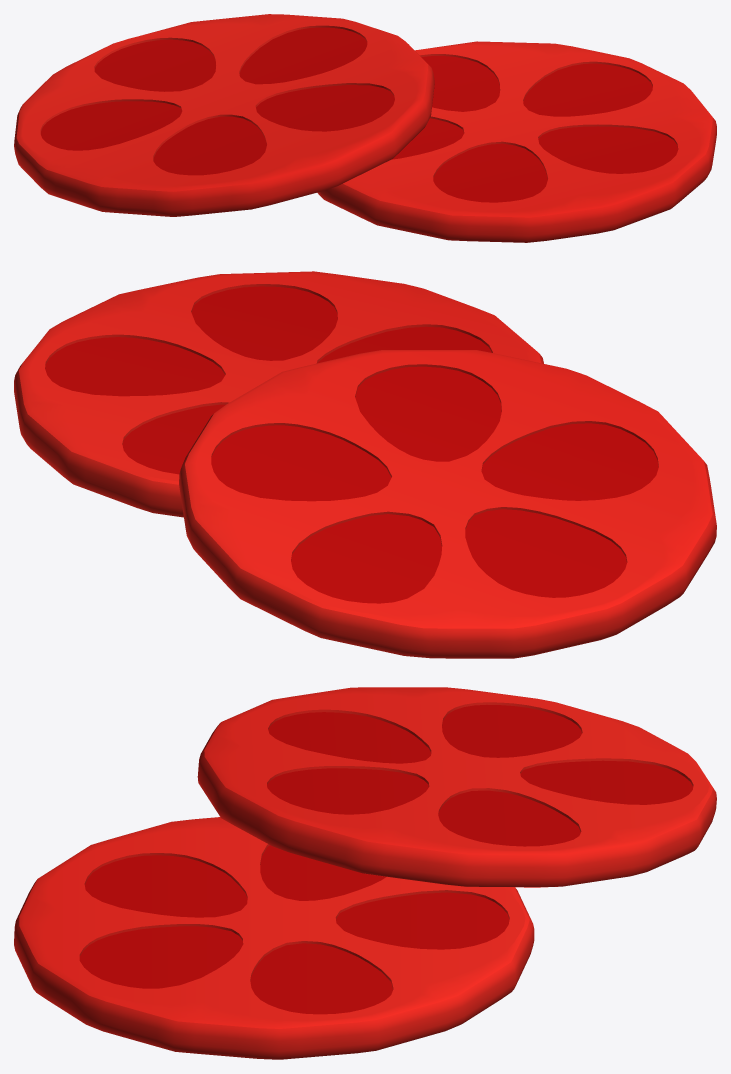
File: itemNormal07.fbx
The picture shows the model from 3 angles, top to bottom: view 1: azimuth 30°, elevation 25°; view 2: azimuth 150°, elevation 25°; view 3: azimuth 270°, elevation 25°; orthographic projection. The views are drawn at different scales.
Visible parts, largest first — view 1: Tomato Slice.002, Tomato Slice.001; view 2: Tomato Slice.002, Tomato Slice.001; view 3: Tomato Slice.001, Tomato Slice.002.
Part boxes in pixels (box(x1,y1,x2,y2)): Tomato Slice.002: box(14, 14, 434, 216); Tomato Slice.001: box(317, 41, 716, 242); Tomato Slice.002: box(179, 350, 716, 658); Tomato Slice.001: box(14, 271, 543, 517); Tomato Slice.001: box(14, 817, 534, 1059); Tomato Slice.002: box(197, 687, 716, 887).
Size of the model in its own units: 164 by 20.99 by 142.
